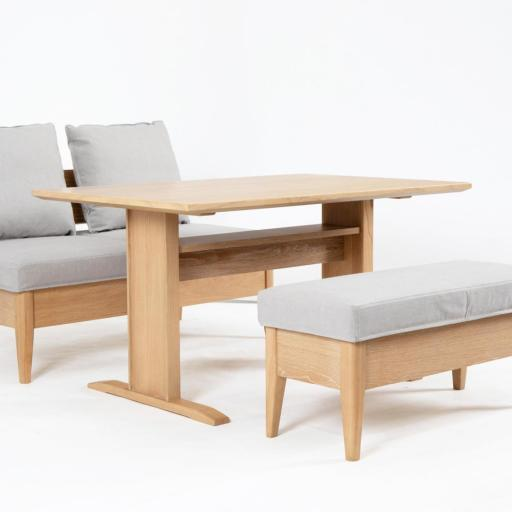table: (40, 176, 468, 440)
